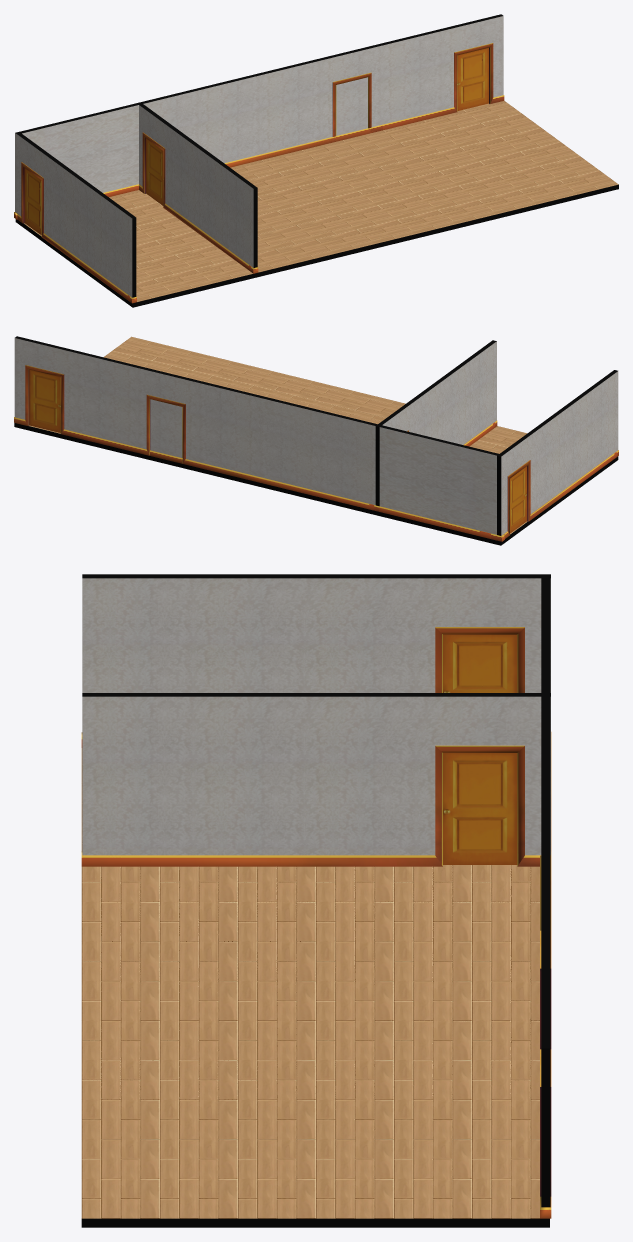
File: room2.fbx
The picture shows the model from 3 angles, top to bottom: view 1: azimuth 30°, elevation 25°; view 2: azimuth 150°, elevation 25°; view 3: azimuth 270°, elevation 25°; orthographic projection. The views are drawn at different scales.
Parts seen in each view (by area): view 1: bottom (×2), wall_long (×2), wall_short (×2), wallFrame_long (×2), wallFrame_short (×2), door_short (×2), door_long; view 2: wall_long (×2), wall_short (×2), bottom (×2), wallFrame_long (×2), door_long, wallFrame_short, door_short; view 3: bottom (×2), wall_short (×2), door_short (×2), wallFrame_short (×2), wall_long (×2), wallFrame_long.
Boxes of the visible parts, left/top/right/bottom form: bottom (×2): left=15, top=100, right=618, bottom=307; wall_long (×2): left=16, top=14, right=503, bottom=192; wall_short (×2): left=15, top=104, right=257, bottom=297; wallFrame_long (×2): left=14, top=43, right=504, bottom=219; wallFrame_short (×2): left=15, top=132, right=258, bottom=303; door_short (×2): left=24, top=138, right=163, bottom=235; door_long: left=457, top=48, right=488, bottom=110; wall_long (×2): left=14, top=336, right=502, bottom=534; wall_short (×2): left=375, top=340, right=618, bottom=535; bottom (×2): left=14, top=336, right=618, bottom=545; wallFrame_long (×2): left=14, top=365, right=504, bottom=541; door_long: left=29, top=369, right=60, bottom=432; wallFrame_short: left=501, top=450, right=618, bottom=538; door_short: left=510, top=466, right=526, bottom=533; bottom (×2): left=81, top=748, right=549, bottom=1227; wall_short (×2): left=82, top=574, right=550, bottom=855; door_short (×2): left=443, top=634, right=517, bottom=864; wallFrame_short (×2): left=81, top=627, right=540, bottom=866; wall_long (×2): left=541, top=574, right=550, bottom=1207; wallFrame_long: left=540, top=732, right=551, bottom=1218.
Size of the model in its own units: 120 by 21.02 by 50.14.
